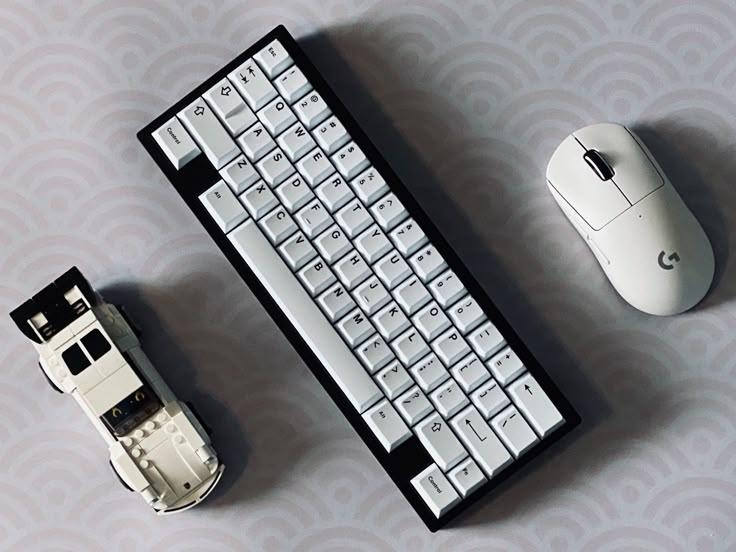keyboard: (135, 23, 582, 532)
